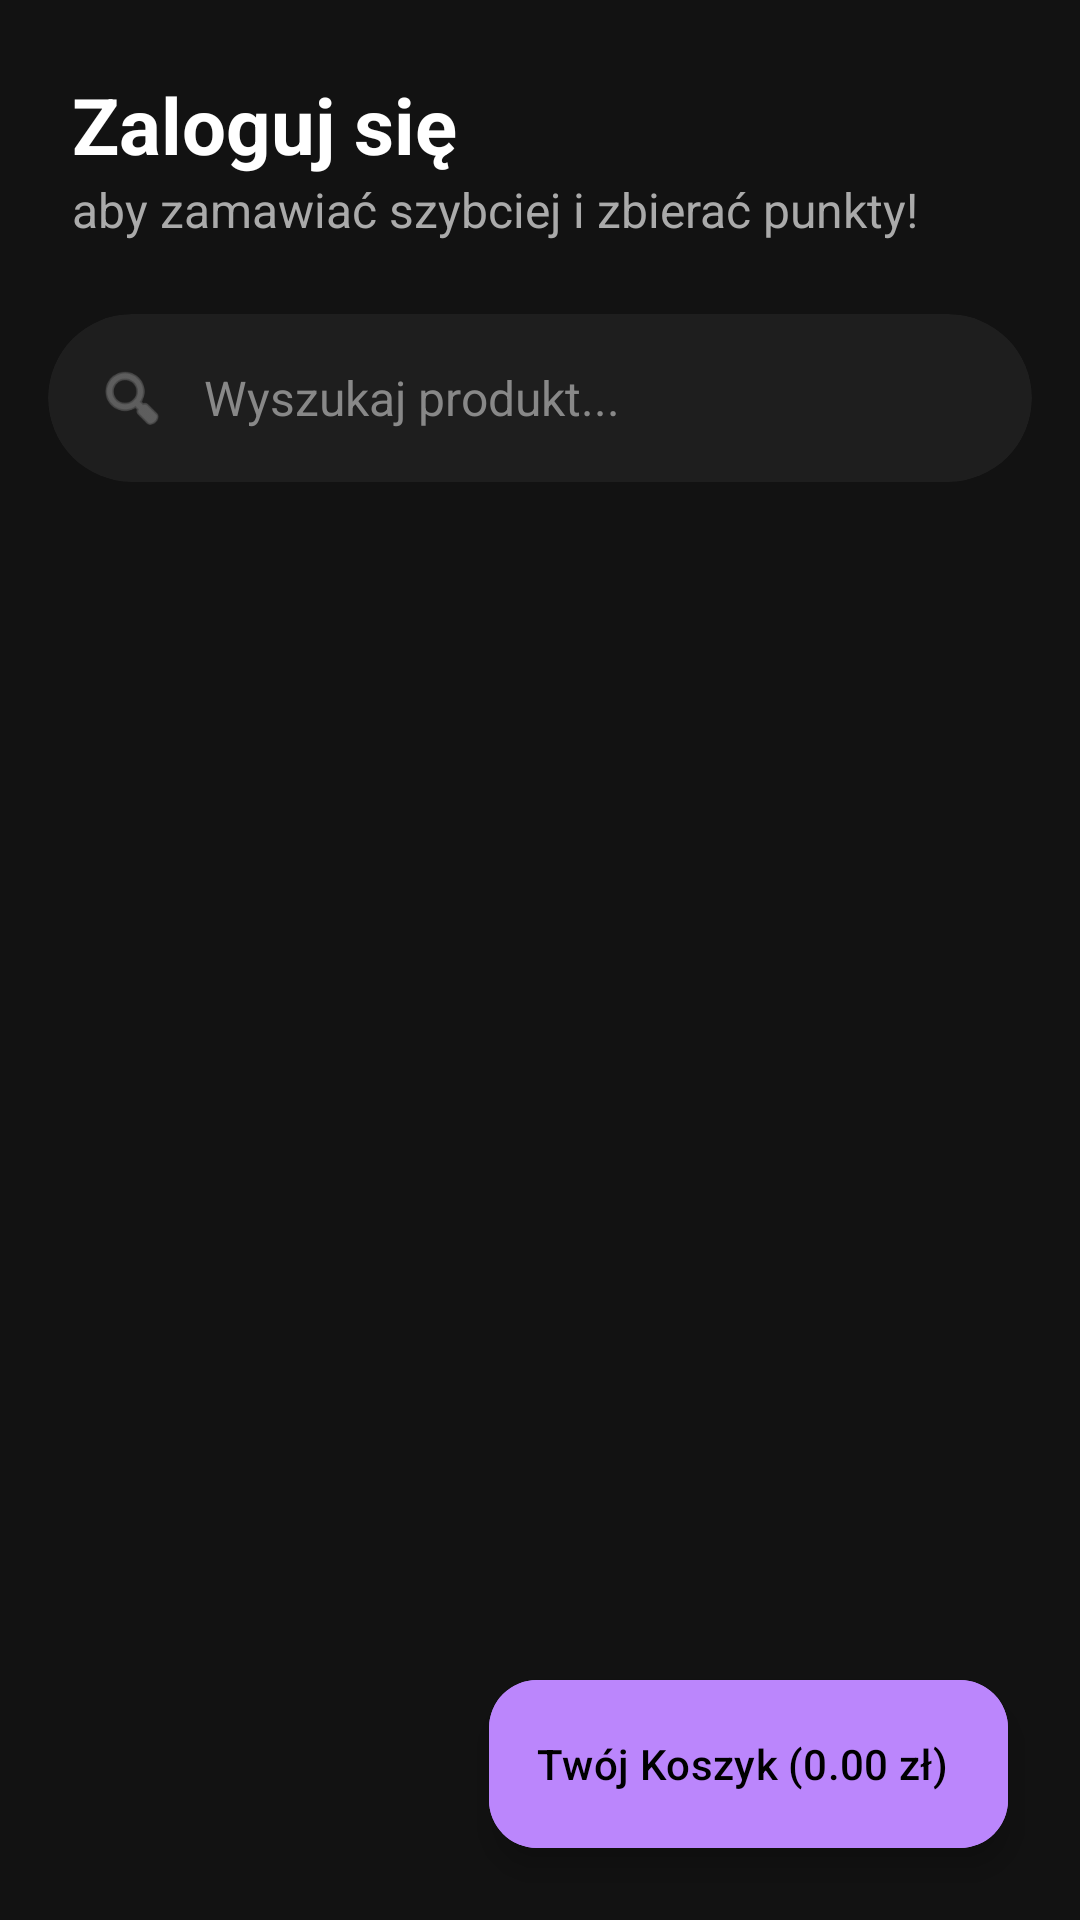

Screen size 1080×1920. Icon name, then its center in pixels as (x=x, y=y):
search: (x=132, y=398)
